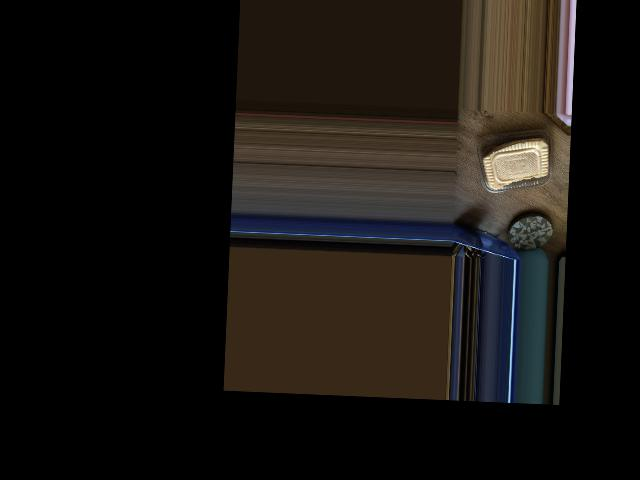cheese: (481, 109, 564, 200)
